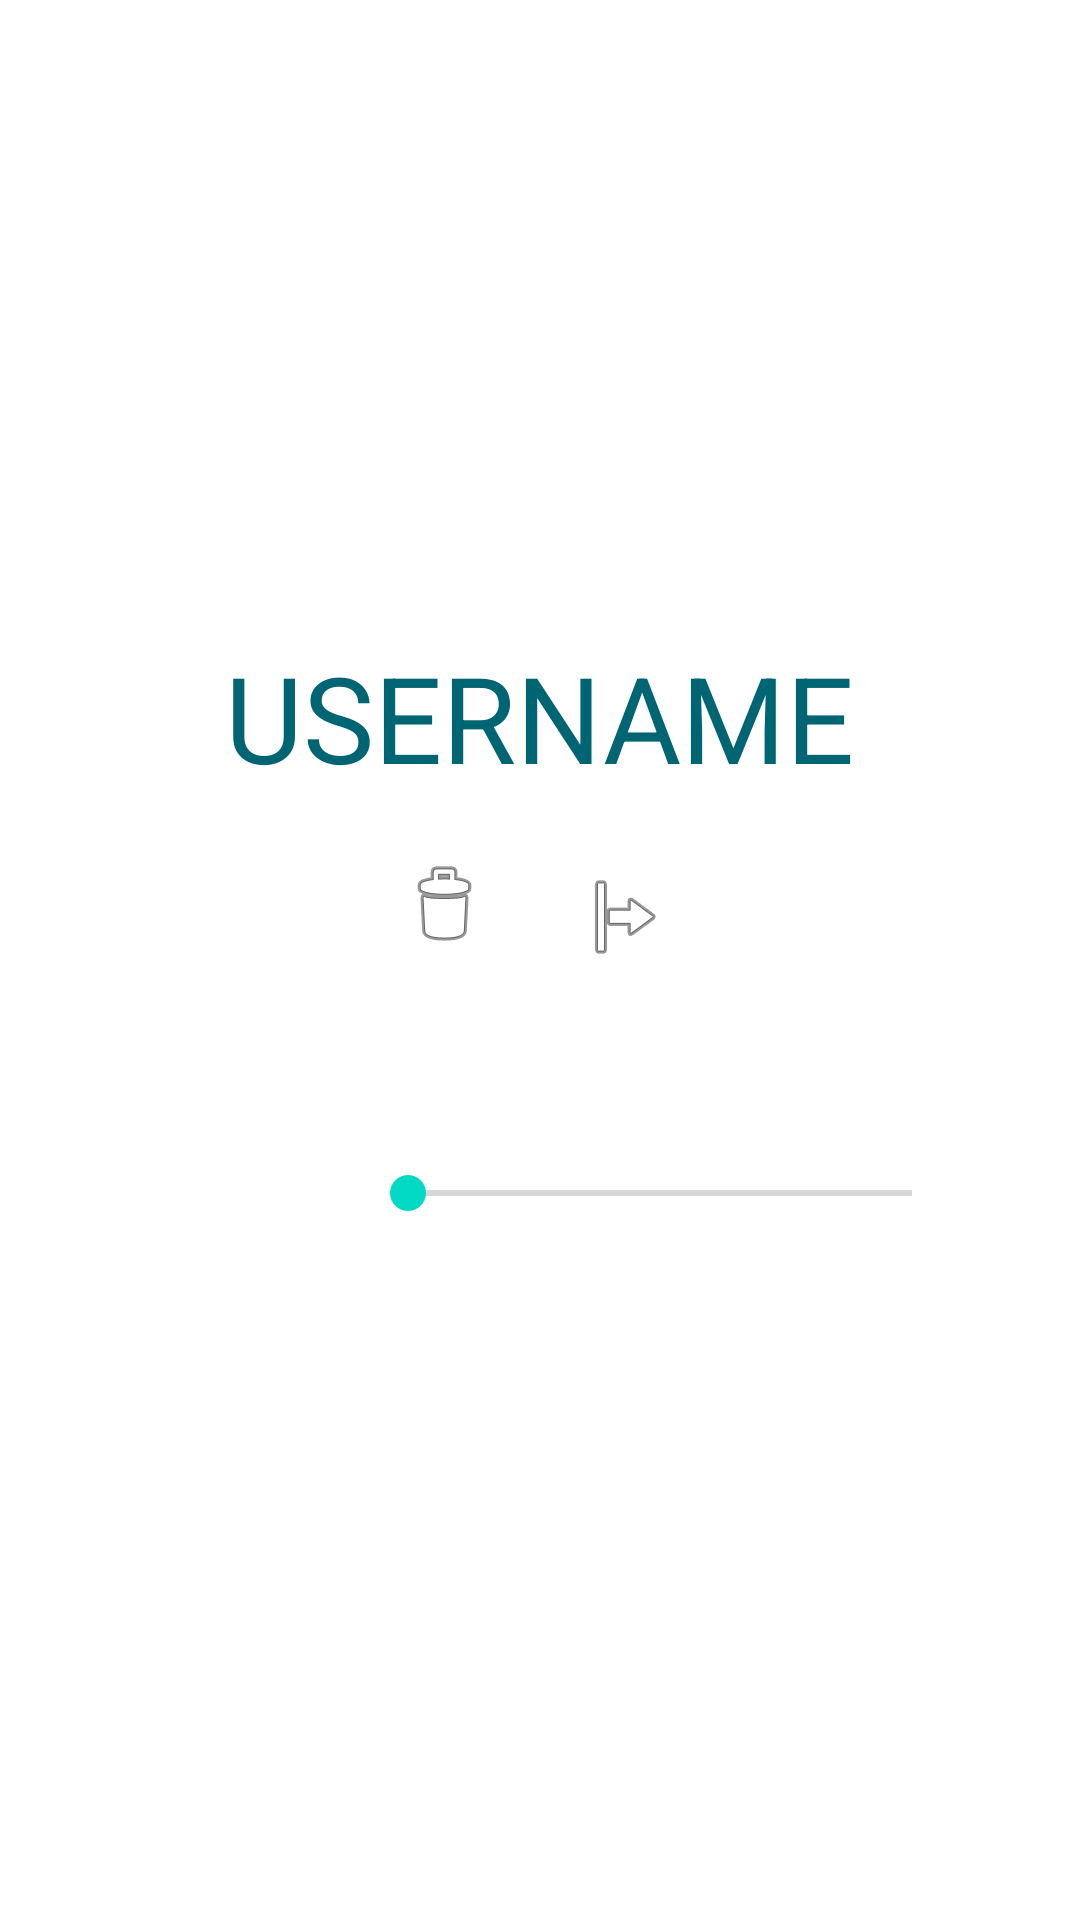

Screen size 1080 x 1920. Icon name, then its box in pixels as (x1, y1, x2, y2):
delete: (417, 866, 472, 941)
